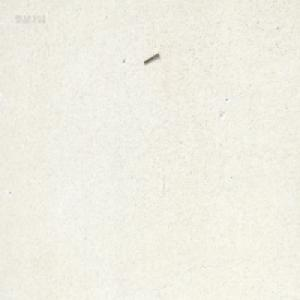Bolt: (143, 51, 159, 63)
